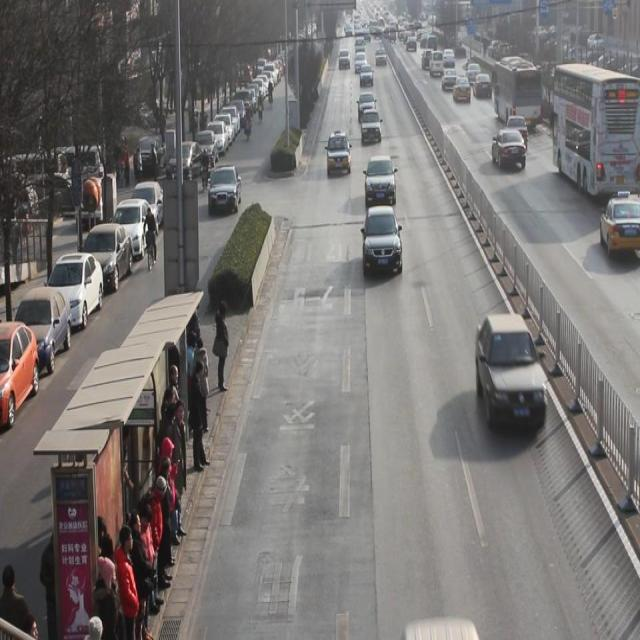car: (476, 315, 548, 434), (364, 206, 404, 279), (600, 196, 640, 256), (365, 158, 397, 210), (492, 130, 526, 172), (326, 132, 351, 176), (505, 114, 529, 151), (361, 108, 382, 144), (474, 71, 493, 100), (357, 93, 376, 122), (454, 76, 471, 105)
van: (552, 62, 640, 199), (493, 58, 542, 133)
